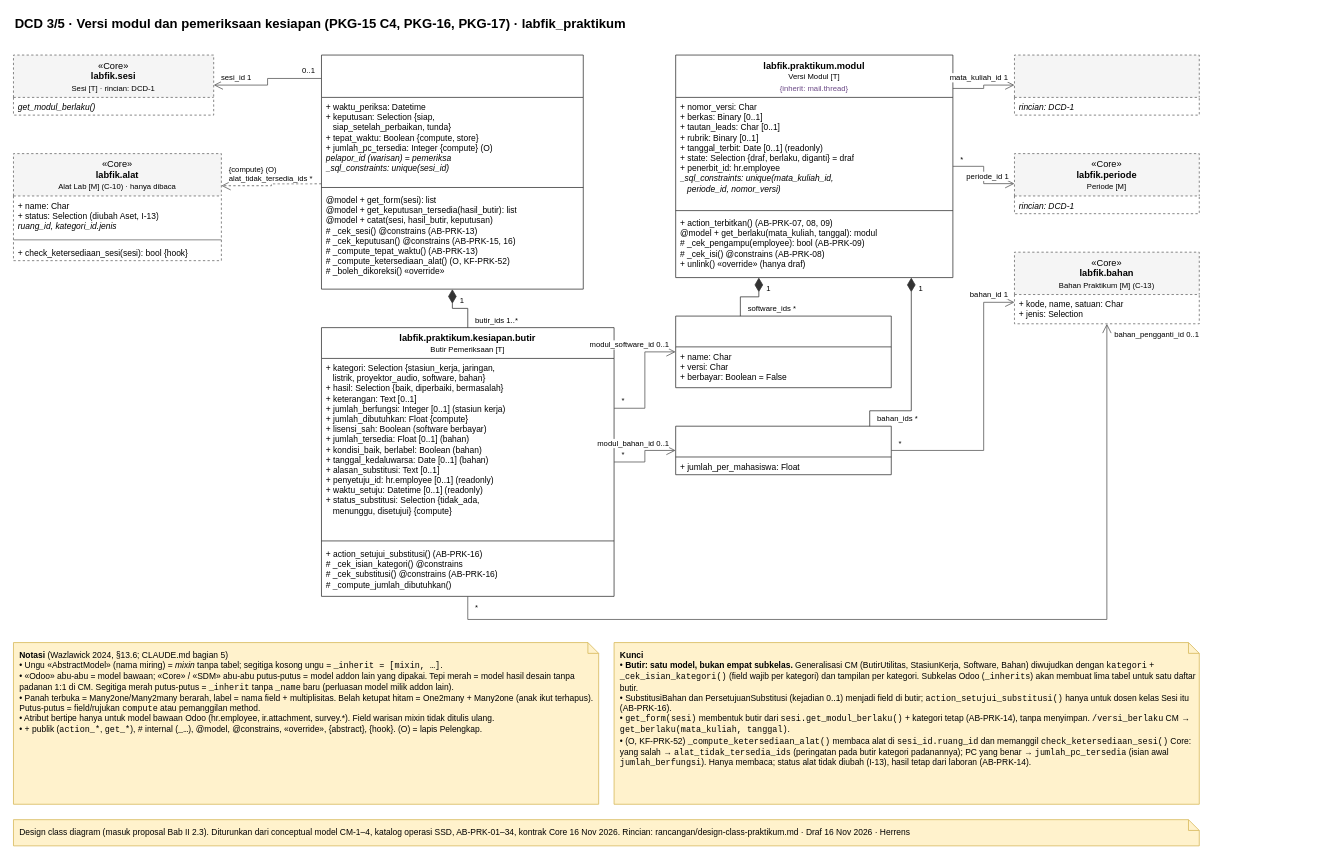
Image size: 1336x859. Some labels were removed from this diagram. Here are the shapes that lost their labels. From the top down, the box of each, then its label:
(1014, 54, 1199, 115): «Core» labfik.mata.kuliah Mata Kuliah [M]
(321, 54, 583, 289): labfik.praktikum.kesiapan Pemeriksaan Kesiapan [T] {inherit: evidence}
(675, 315, 891, 388): labfik.praktikum.modul.software Kebutuhan Software [T]
(675, 425, 891, 475): labfik.praktikum.modul.bahan Kebutuhan Bahan [T]
